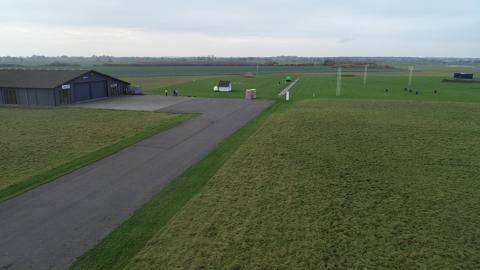RockwoolPallet: (251, 88, 257, 100)
